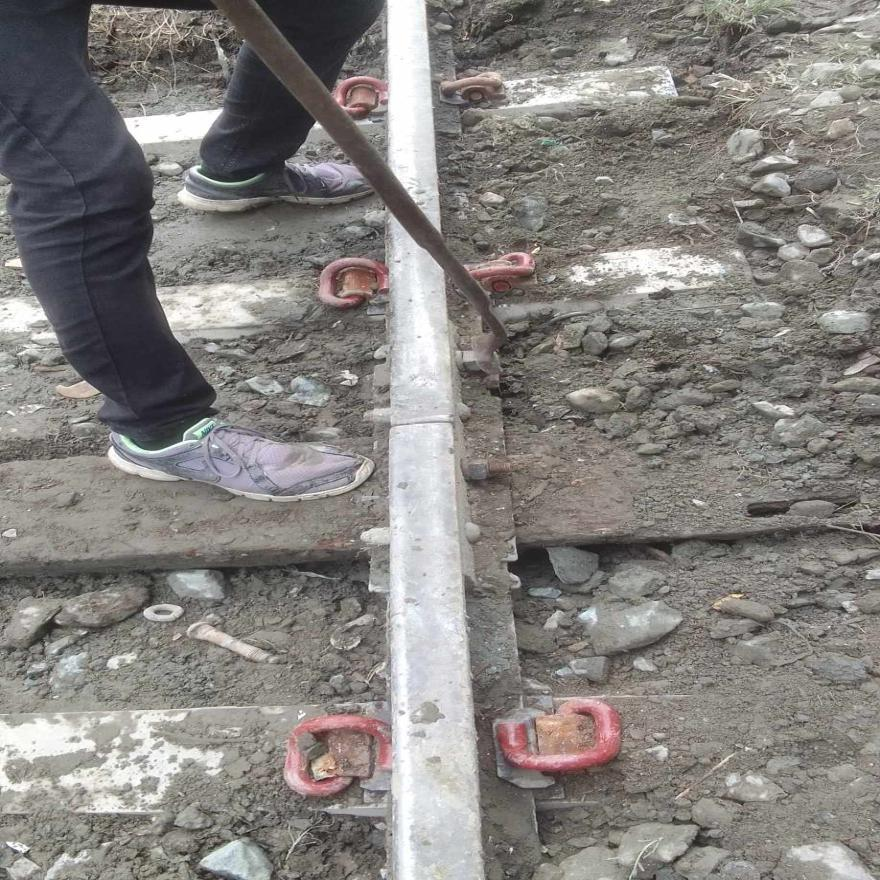railway-gap: (361, 385, 487, 467)
